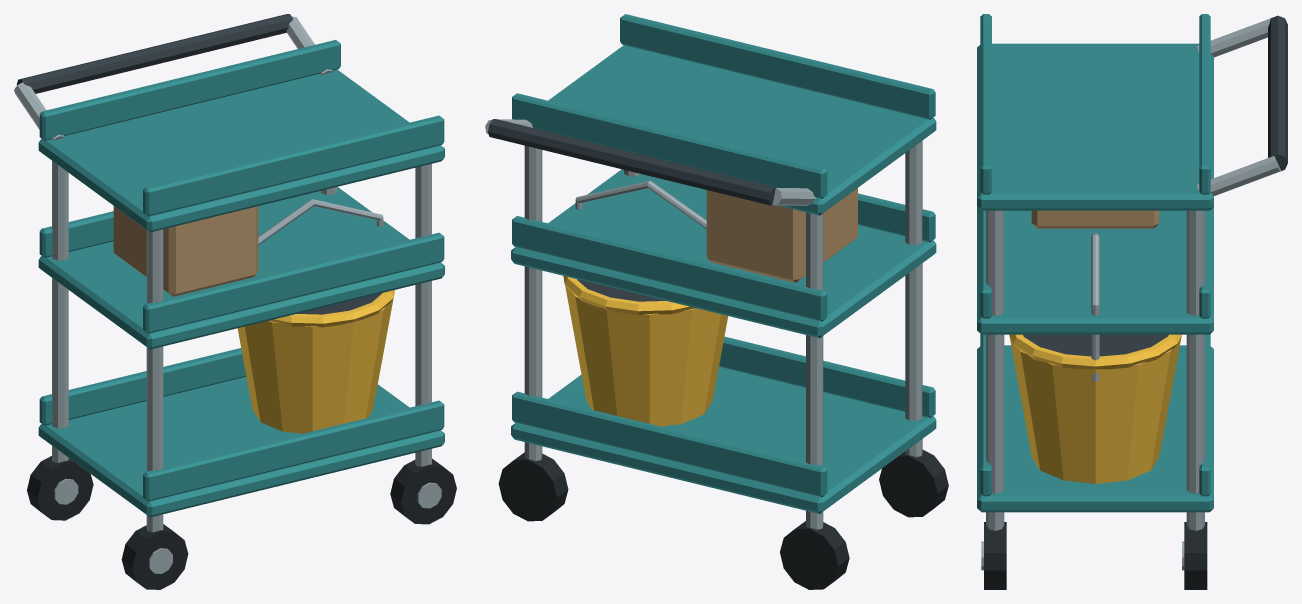
The model's file is Maintenance_Cart.glb.
3 views of the same model, side by side, from view 1: azimuth 30°, elevation 25°; view 2: azimuth 150°, elevation 25°; view 3: azimuth 270°, elevation 25° (orthographic). The views are drawn at different scales.
Visible parts, largest first — view 1: Maintenance_Cart; view 2: Maintenance_Cart; view 3: Maintenance_Cart.
Part boxes in pixels (<box>): Maintenance_Cart: <box>14,14,456,589</box>; Maintenance_Cart: <box>485,14,948,589</box>; Maintenance_Cart: <box>977,14,1287,589</box>.
Bounding box in the file's own units: 0.87 × 1.05 × 0.682.
